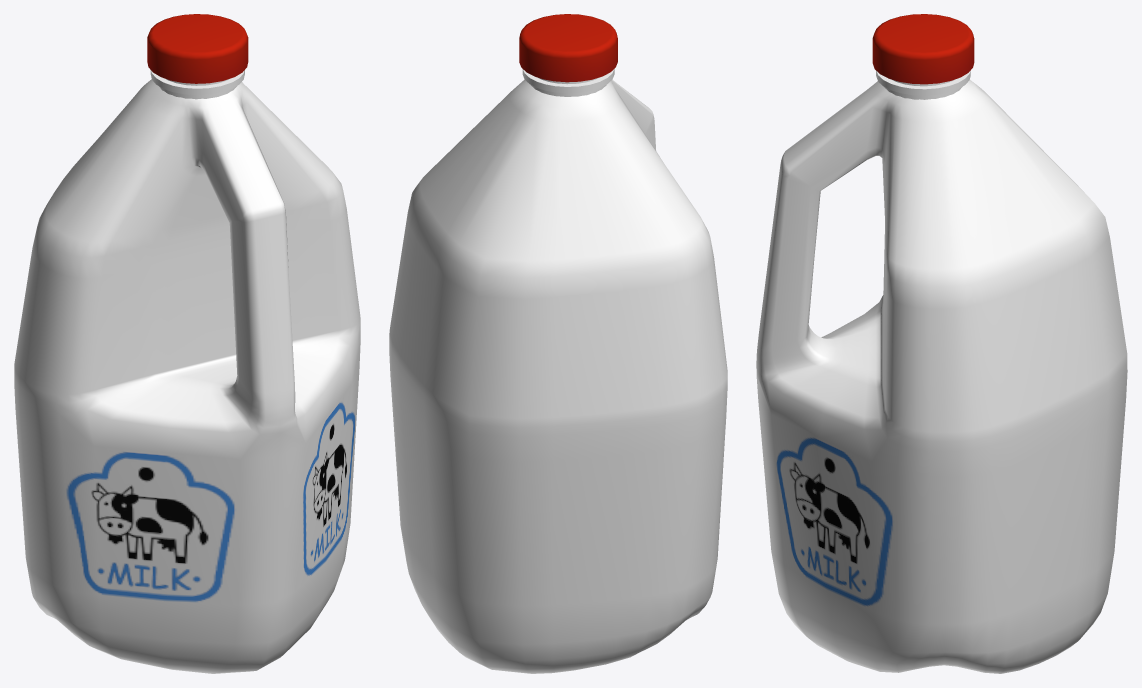
File: Milk_gallon.fbx
3 renders of one model, left to right at view 1: azimuth 30°, elevation 25°; view 2: azimuth 150°, elevation 25°; view 3: azimuth 270°, elevation 25°, orthographic. The views are drawn at different scales.
Parts seen in each view (by area): view 1: Milk_gallon; view 2: Milk_gallon; view 3: Milk_gallon.
Boxes of the visible parts, x1,y1,x2,y2 form: Milk_gallon: (14,14,360,673); Milk_gallon: (389,14,727,673); Milk_gallon: (756,14,1127,673).
Size of the model in its own units: 29.42 by 53 by 29.15.
